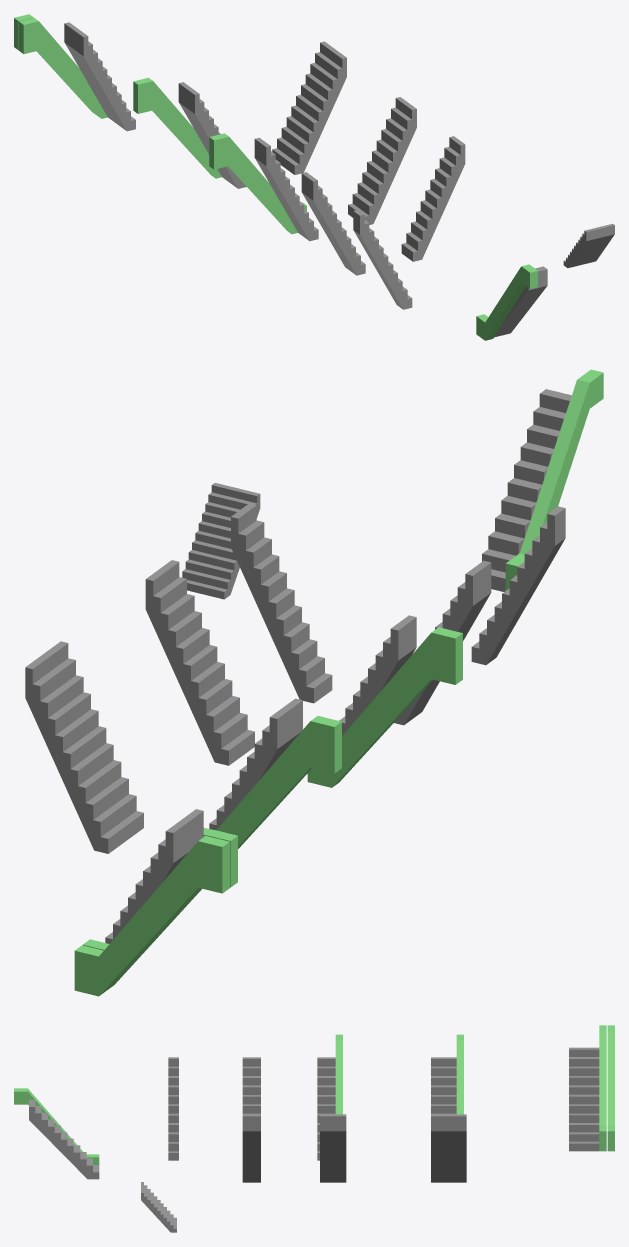
3 views of the same model, one above another, from view 1: azimuth 30°, elevation 25°; view 2: azimuth 150°, elevation 25°; view 3: azimuth 270°, elevation 25° (orthographic). The views are drawn at different scales.
Parts seen in each view (by area): view 1: 階段.023, 階段.022, 階段.020, 階段.025, エスカレーター.022, エスカレーター.024, エスカレーター.023, 階段.019, 階段.021, 階段.018, エスカレーター.037, 階段.024 (+2 smaller); view 2: 階段.023, 階段.022, 階段.020, エスカレーター.025, エスカレーター.022, 階段.035, エスカレーター.023, 階段.034, 階段.018, エスカレーター.037, 階段.024, 階段.025 (+3 smaller); view 3: 階段.025, 階段.023, 階段.022, 階段.035, 階段.024, 階段.020, 階段.021, 階段.018, 階段.019, エスカレーター.024, エスカレーター.025, 階段.034 (+3 smaller).
Boxes of the visible parts, <box> form: 階段.023: <box>272,41,346,174</box>; 階段.022: <box>348,97,416,224</box>; 階段.020: <box>401,136,465,261</box>; 階段.025: <box>64,22,135,131</box>; エスカレーター.022: <box>209,133,306,234</box>; エスカレーター.024: <box>19,18,107,118</box>; エスカレーター.023: <box>133,77,221,178</box>; 階段.019: <box>301,172,365,275</box>; 階段.021: <box>254,137,318,241</box>; 階段.018: <box>353,210,412,309</box>; エスカレーター.037: <box>476,264,537,340</box>; 階段.024: <box>178,82,246,188</box>; 階段.023: <box>25,641,143,853</box>; 階段.022: <box>145,560,254,765</box>; 階段.020: <box>231,503,332,703</box>; エスカレーター.025: <box>74,836,229,996</box>; エスカレーター.022: <box>307,627,462,787</box>; 階段.035: <box>482,389,571,591</box>; エスカレーター.023: <box>203,716,341,848</box>; 階段.034: <box>182,483,260,599</box>; 階段.018: <box>471,506,565,665</box>; エスカレーター.037: <box>505,369,603,590</box>; 階段.024: <box>209,698,302,830</box>; 階段.025: <box>105,809,203,943</box>; 階段.025: <box>569,1047,599,1151</box>; 階段.023: <box>431,1114,466,1182</box>; 階段.022: <box>320,1114,346,1182</box>; 階段.035: <box>29,1099,99,1179</box>; 階段.024: <box>431,1057,456,1114</box>; 階段.020: <box>242,1114,260,1182</box>; 階段.021: <box>317,1057,335,1160</box>; 階段.018: <box>168,1057,178,1160</box>; 階段.019: <box>242,1057,260,1114</box>; エスカレーター.024: <box>599,1025,606,1151</box>; エスカレーター.025: <box>607,1025,614,1151</box>; 階段.034: <box>141,1182,176,1232</box>.
Bounding box in the file's own units: 6366 × 2269 × 13760.
